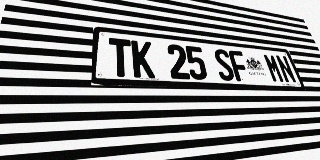2: (166, 44, 190, 79)
5: (185, 45, 209, 80)
F: (228, 50, 251, 82)
K: (131, 40, 155, 78)
M: (262, 54, 285, 83)
N: (275, 55, 297, 83)
S: (212, 48, 236, 81)
T: (109, 38, 133, 77)
